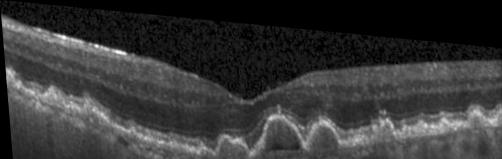retinal_drusen: (262, 113, 299, 148), (308, 119, 336, 148), (65, 103, 105, 121), (218, 134, 244, 157), (39, 85, 63, 107), (375, 114, 393, 134), (468, 101, 484, 119), (412, 113, 426, 124), (437, 111, 448, 123), (495, 102, 502, 117), (197, 145, 211, 152), (125, 125, 133, 133)
